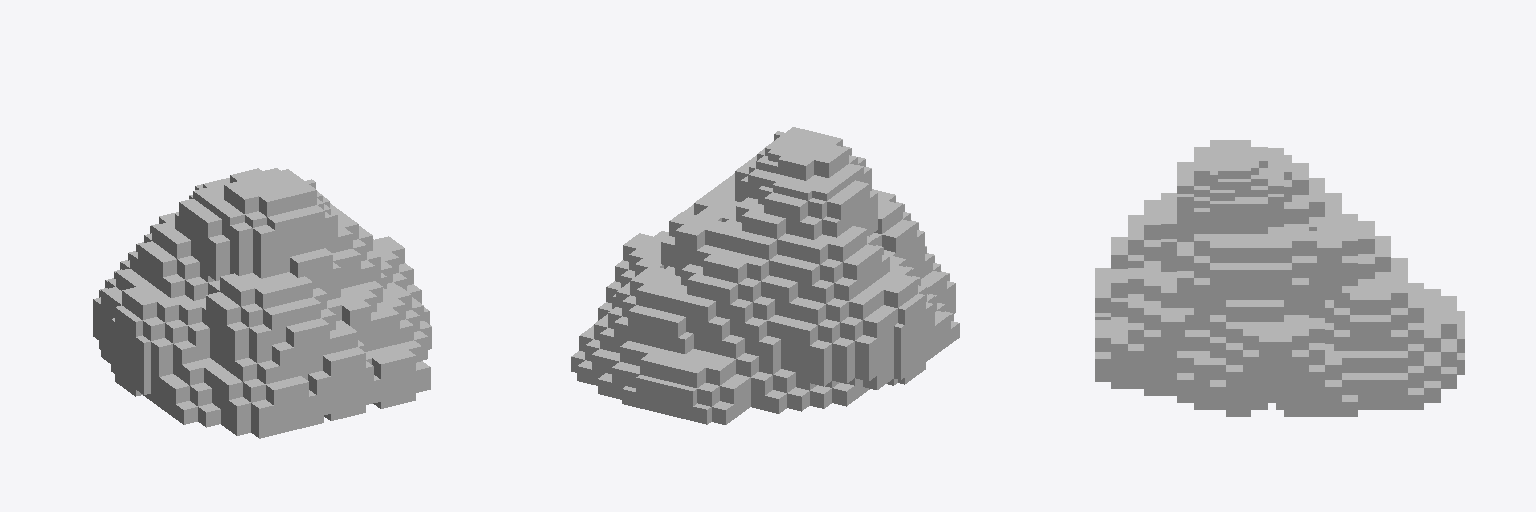
Rendered from Rock_001.obj.
3 renders of one model, left to right at view 1: azimuth 30°, elevation 25°; view 2: azimuth 150°, elevation 25°; view 3: azimuth 270°, elevation 25°, orthographic.
Visible parts, largest first — view 1: default; view 2: default; view 3: default.
Boxes of the visible parts, <box> form: default: <box>93,168,431,438</box>; default: <box>571,127,959,424</box>; default: <box>1095,140,1464,416</box>.
Size of the model in its own units: 39 by 25 by 45.